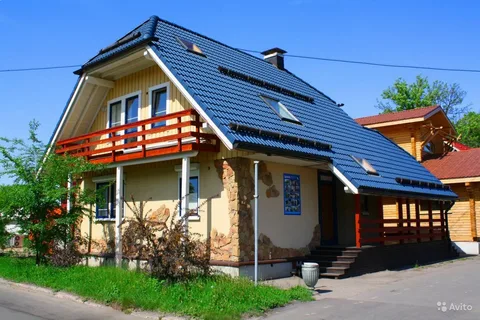private_hause: (50, 27, 442, 265)
